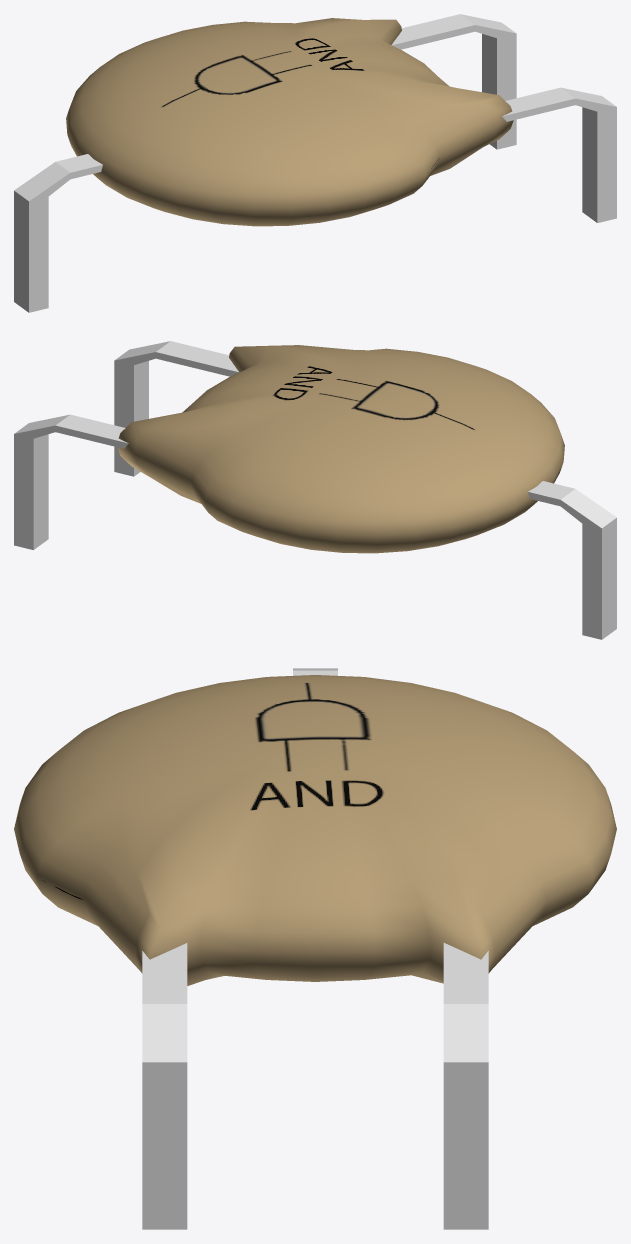
The model's file is ANDgate.fbx.
3 renders of one model, top to bottom at view 1: azimuth 30°, elevation 25°; view 2: azimuth 150°, elevation 25°; view 3: azimuth 270°, elevation 25°, orthographic. The views are drawn at different scales.
Visible parts, largest first — view 1: Sphere; view 2: Sphere; view 3: Sphere.
Part boxes in pixels (box(x1,y1,x2,y2)): Sphere: box(14, 14, 616, 312); Sphere: box(14, 341, 616, 639); Sphere: box(14, 668, 616, 1229).
Size of the model in its own units: 309 by 99.85 by 200.
